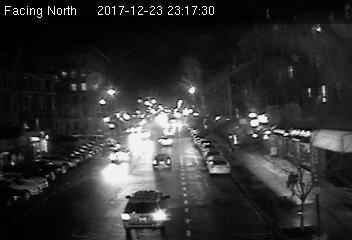car: (122, 187, 172, 230), (108, 147, 134, 164), (208, 157, 229, 174), (151, 153, 172, 167)
